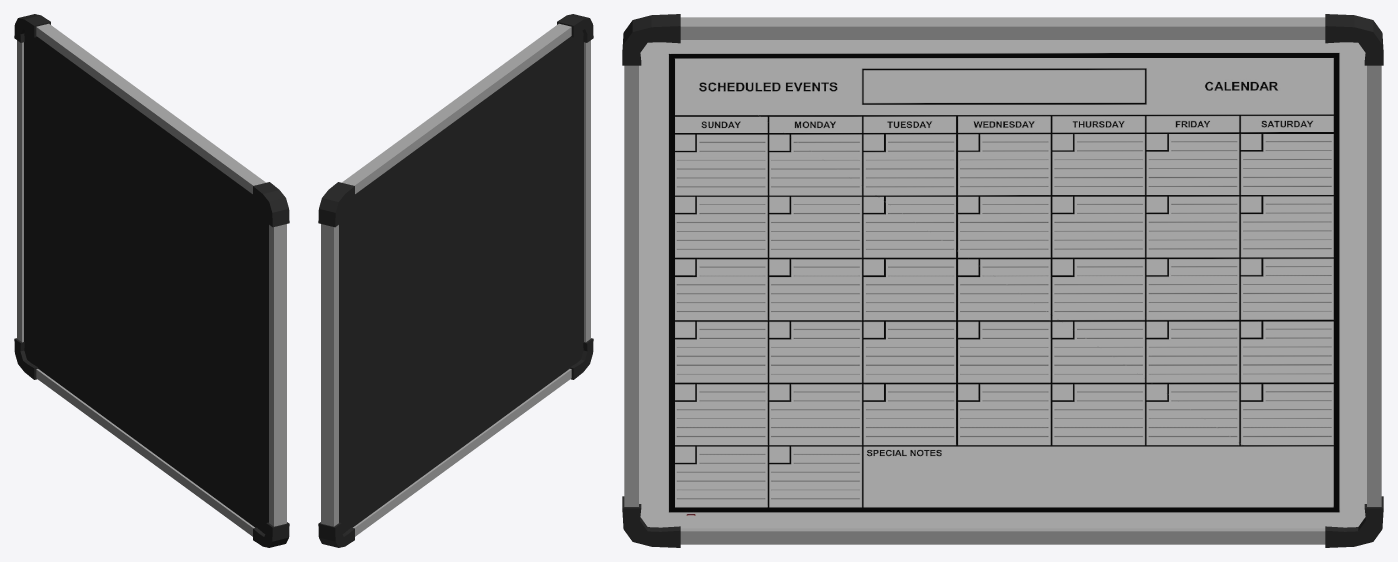
File: board_date_horizontal.dae
3 views of the same model, side by side, from view 1: azimuth 30°, elevation 25°; view 2: azimuth 150°, elevation 25°; view 3: azimuth 270°, elevation 25° (orthographic). The views are drawn at different scales.
Visible parts, largest first — view 1: Cube.1, Cube.004, Cube.002, Cube, Cube.003, Cube.007, Cube.006, Cube.008, Cube.005; view 2: Cube.1, Cube.003, Cube.002, Cube, Cube.004, Cube.008, Cube.005, Cube.007, Cube.006; view 3: Cube.1, Cube.002, Cube, Cube.004, Cube.003, Cube.007, Cube.008, Cube.006, Cube.005.
Part boxes in pixels (box(x1,y1,x2,y2)): Cube.1: box(24, 31, 268, 534); Cube.004: box(269, 224, 286, 526); Cube.002: box(36, 23, 265, 193); Cube: box(36, 369, 254, 536); Cube.003: box(17, 40, 23, 342); Cube.007: box(253, 182, 289, 227); Cube.006: box(253, 522, 289, 547); Cube.008: box(14, 14, 50, 42); Cube.005: box(14, 338, 37, 379); Cube.1: box(339, 31, 583, 534); Cube.003: box(321, 224, 338, 526); Cube.002: box(342, 23, 571, 193); Cube: box(353, 369, 571, 536); Cube.004: box(584, 40, 590, 342); Cube.008: box(318, 182, 354, 227); Cube.005: box(318, 522, 354, 547); Cube.007: box(557, 14, 593, 42); Cube.006: box(570, 338, 593, 379); Cube.1: box(639, 40, 1366, 528); Cube.002: box(680, 17, 1325, 39); Cube: box(680, 528, 1325, 544); Cube.004: box(624, 65, 638, 506); Cube.003: box(1367, 65, 1381, 506); Cube.007: box(622, 14, 680, 65); Cube.008: box(1325, 14, 1383, 65); Cube.006: box(622, 496, 680, 547); Cube.005: box(1325, 496, 1383, 547).
Size of the model in its own units: 0.0292 by 0.7795 by 0.5895.
